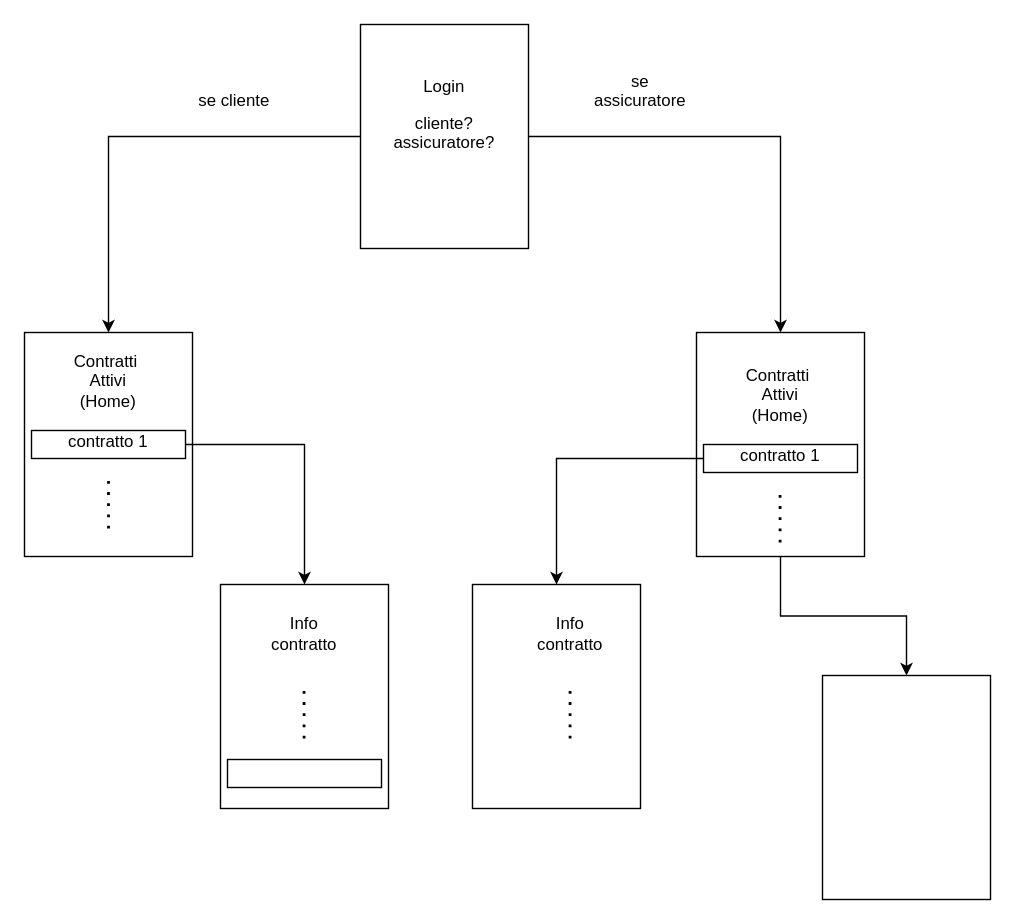
Some shapes in this 1015 by 924 pixel diagram are drawn without their labels. The shapes that lost their labels are listed below. From the top down, each one's box as (x1, y1, x2, y2) in pixels, then its label:
(226, 758, 382, 788): verifica manuale
(821, 674, 990, 899): Creazione Contratto
